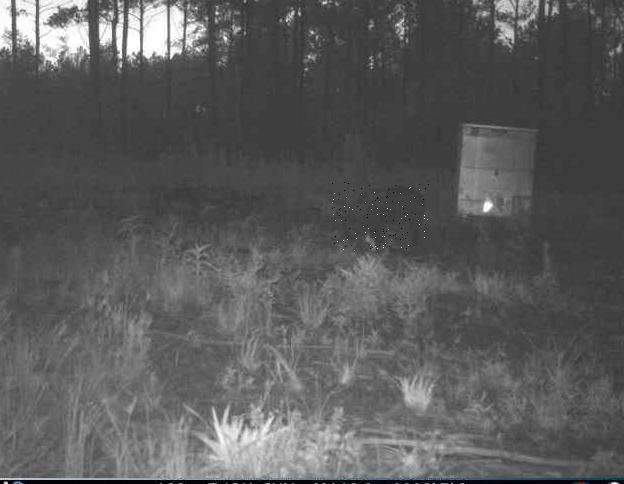Hog: (331, 182, 428, 251)
